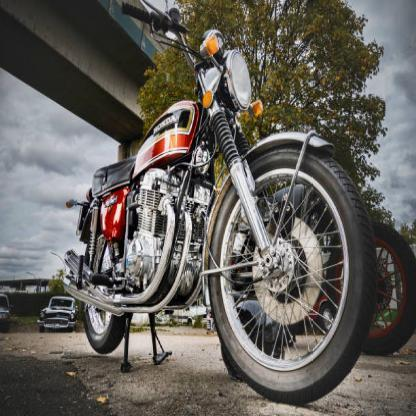Motorcycle: (56, 3, 364, 404)
